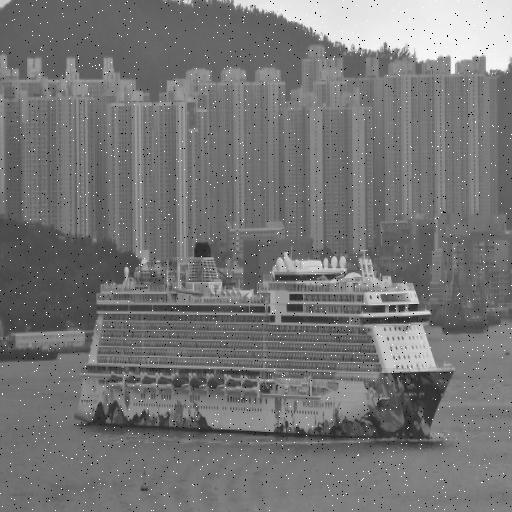cruises: (70, 235, 458, 450)
